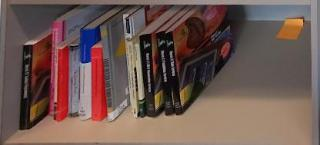book-spine: (155, 31, 175, 117), (47, 20, 64, 117), (79, 28, 96, 121), (165, 32, 183, 116), (139, 33, 156, 119), (99, 26, 114, 123), (19, 44, 33, 132), (127, 41, 138, 119), (134, 43, 145, 119), (91, 48, 102, 122), (51, 47, 60, 121), (72, 47, 80, 119), (57, 49, 63, 122), (68, 47, 73, 119)
